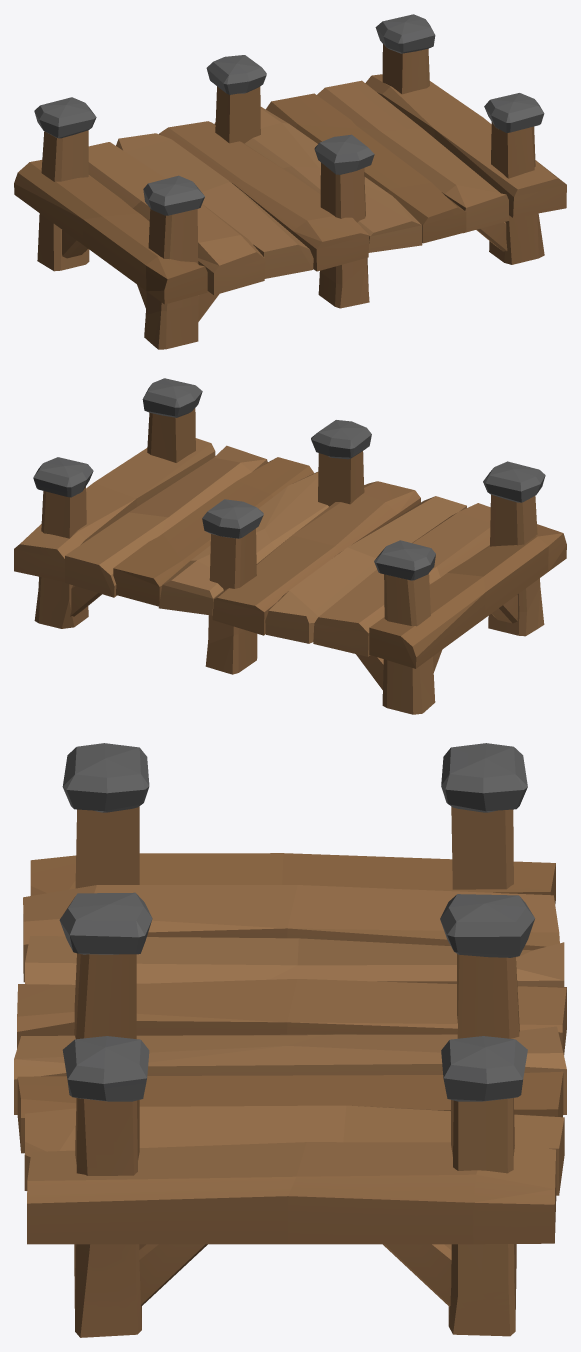
Rendered from Scaffold_Part.fbx.
3 renders of one model, top to bottom at view 1: azimuth 30°, elevation 25°; view 2: azimuth 150°, elevation 25°; view 3: azimuth 270°, elevation 25°, orthographic. The views are drawn at different scales.
Visible parts, largest first — view 1: Scaffold_Part; view 2: Scaffold_Part; view 3: Scaffold_Part.
Part boxes in pixels (left/top/right/bottom): Scaffold_Part: left=14, top=14, right=566, bottom=349; Scaffold_Part: left=14, top=378, right=566, bottom=714; Scaffold_Part: left=14, top=743, right=566, bottom=1337.
Bounding box in the file's own units: 458 × 168 × 312.
